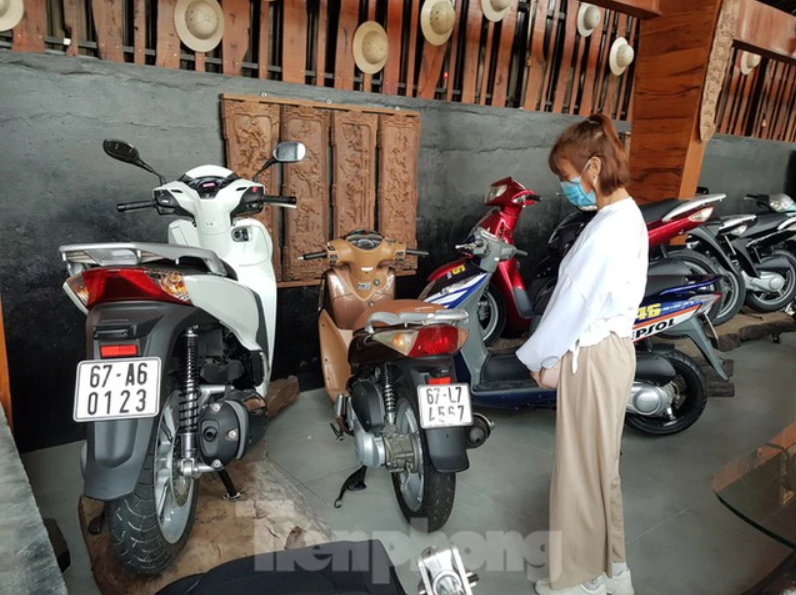bien_so: (70, 353, 164, 424), (414, 381, 476, 432)
